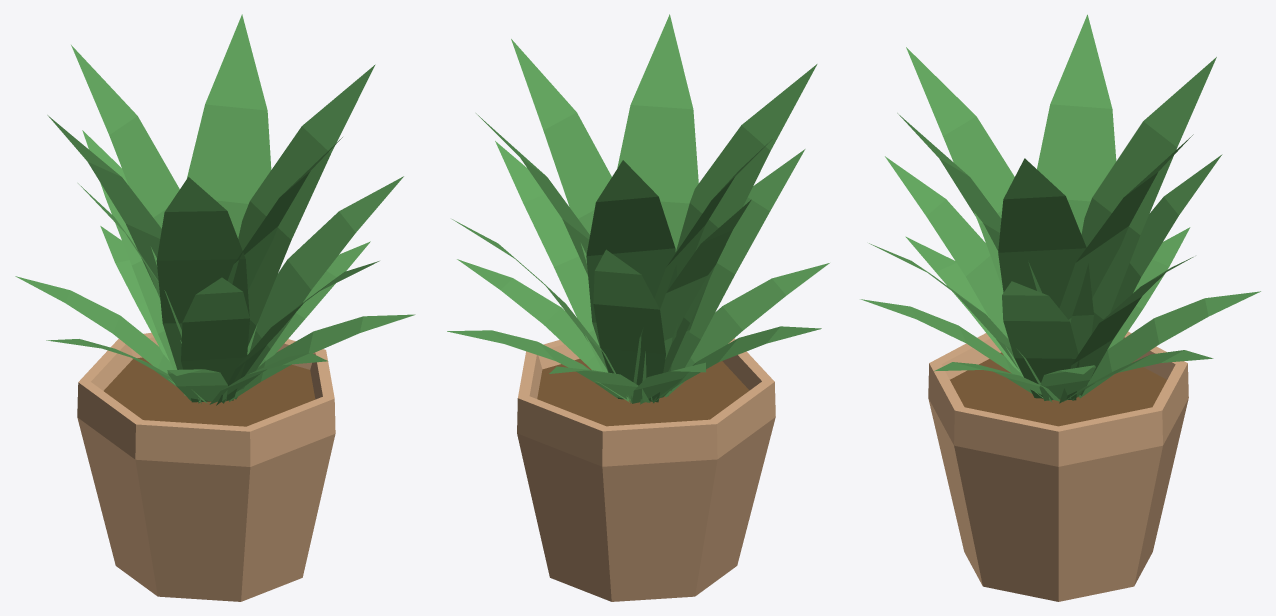
Rendered from PotPlant.fbx.
The picture shows the model from 3 angles, left to right: view 1: azimuth 30°, elevation 25°; view 2: azimuth 150°, elevation 25°; view 3: azimuth 270°, elevation 25°; orthographic projection.
Visible parts, largest first — view 1: PlantPot2; view 2: PlantPot2; view 3: PlantPot2.
Boxes of the visible parts, x1,y1,x2,y2 form: PlantPot2: [15, 14, 415, 601]; PlantPot2: [447, 14, 829, 601]; PlantPot2: [860, 14, 1260, 601].
Size of the model in its own units: 0.00294 by 0.00387 by 0.00297.
